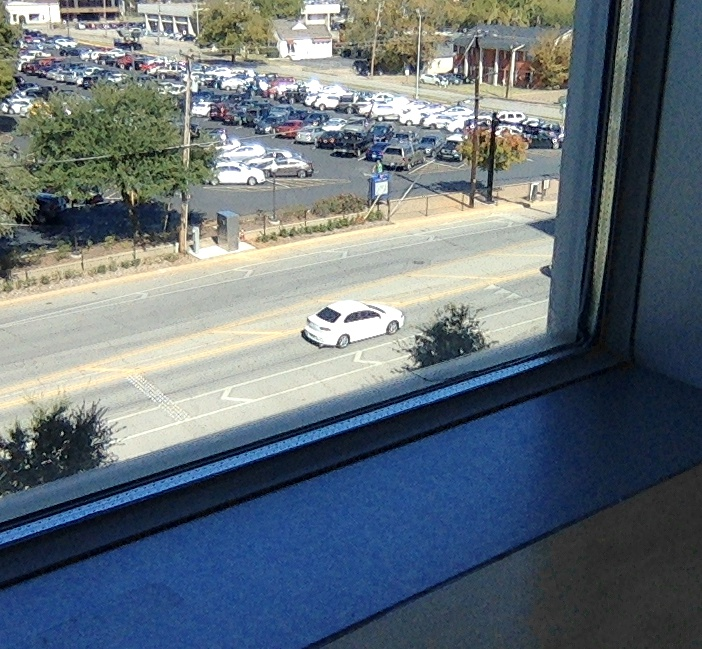car: (300, 300, 402, 349)
